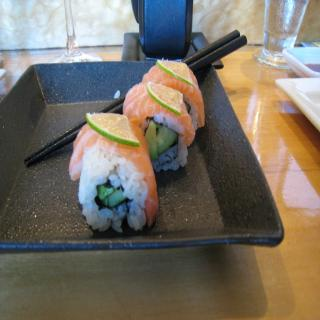Sushi: (68, 114, 158, 231), (124, 83, 196, 169), (141, 58, 207, 127)
